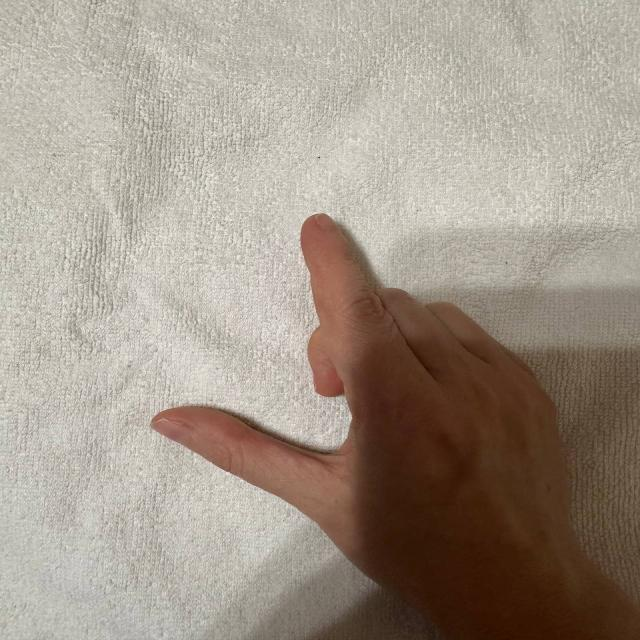-: (138, 200, 614, 589)
